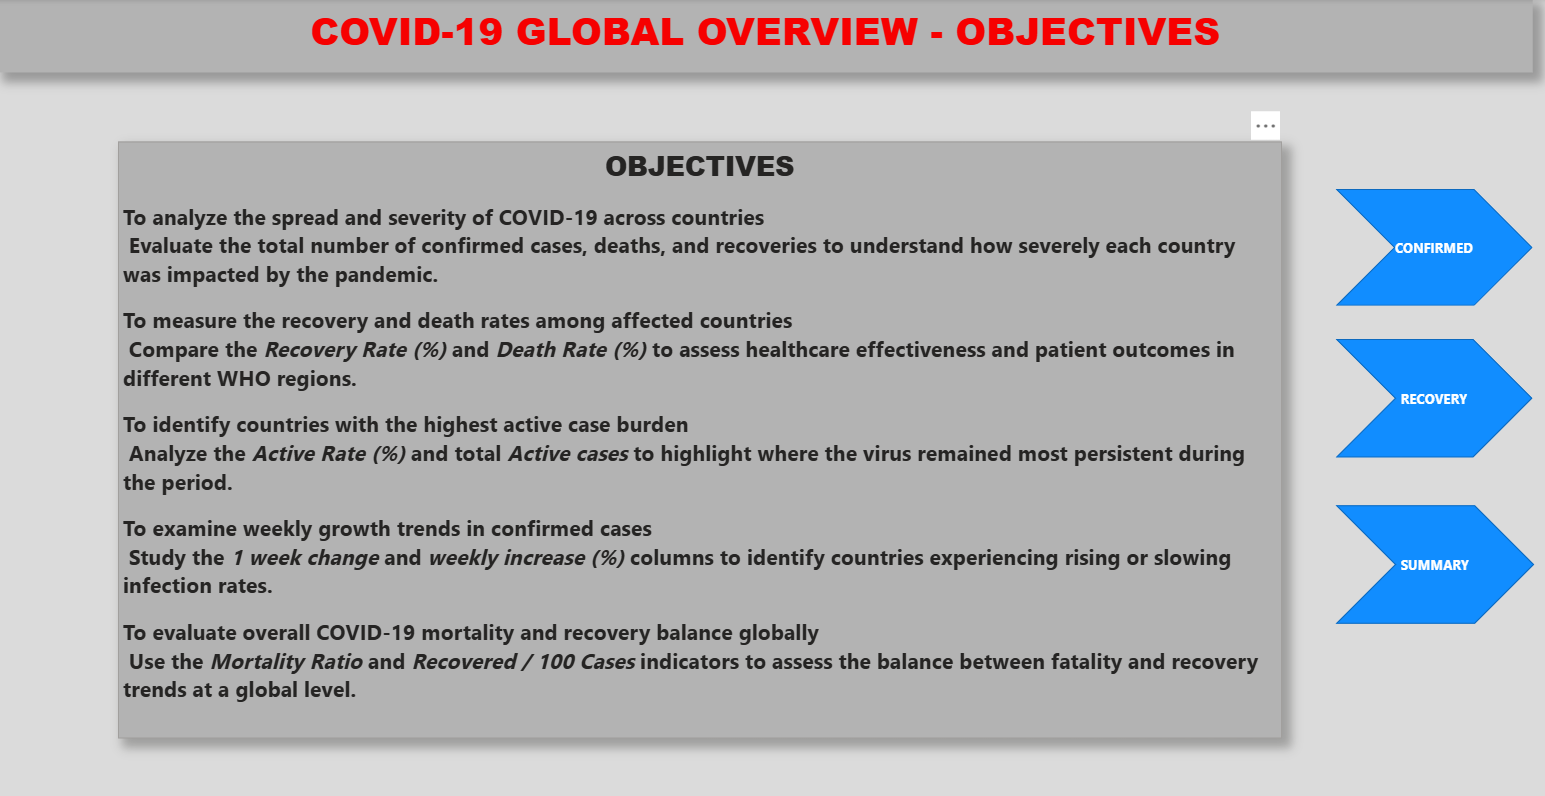

What the dashboard file says about the page in this screenshot:
{"tool":"powerbi","page":{"name":"OBJECTIVES","canvas":[1550,800],"ordinal":1},"visuals":[{"type":"textbox","box":[0,0,1537.4,73.4],"z":0},{"type":"shape","box":[1340,190.4,197.4,117.1],"z":1000},{"type":"shape","box":[1340,340.7,197.4,118.8],"z":3000},{"type":"shape","box":[1340,506.7,199.2,118.8],"z":5000},{"type":"textbox","box":[120.5,143.3,1165.3,597.5],"z":6001}]}

Visuals, with their boxes in screenshot pixels (x1, y1, x2, y2), scaled from the page's 1550x800 canvas onto the 1545x796 screenshot:
textbox: [x1=0, y1=0, x2=1532, y2=73]
shape: [x1=1336, y1=189, x2=1532, y2=306]
shape: [x1=1336, y1=339, x2=1532, y2=457]
shape: [x1=1336, y1=504, x2=1534, y2=622]
textbox: [x1=120, y1=143, x2=1282, y2=737]
